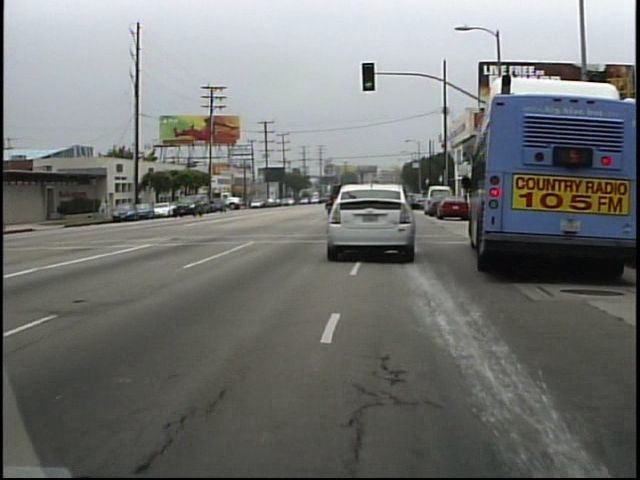person: (100, 195, 113, 222)
